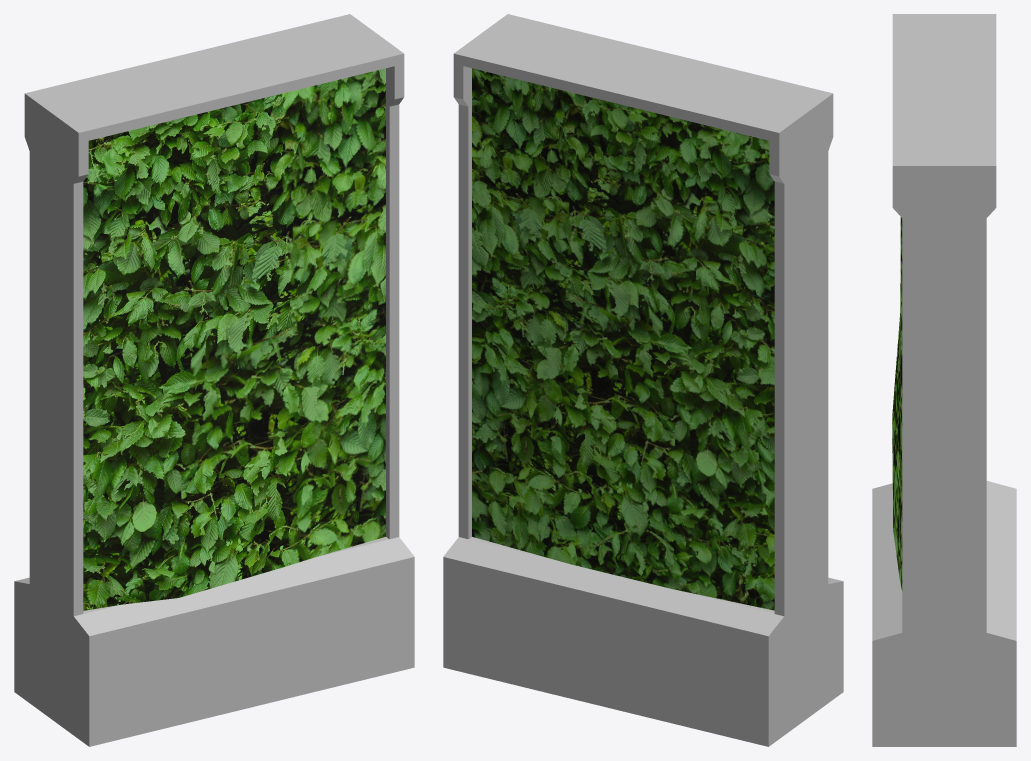
The model's file is PlantedCubboard.fbx.
3 views of the same model, side by side, from view 1: azimuth 30°, elevation 25°; view 2: azimuth 150°, elevation 25°; view 3: azimuth 270°, elevation 25° (orthographic). The views are drawn at different scales.
Parts seen in each view (by area): view 1: WallOfLeaves; view 2: WallOfLeaves; view 3: WallOfLeaves.
Boxes of the visible parts, bbox=[...] form: WallOfLeaves: bbox=[14, 14, 414, 746]; WallOfLeaves: bbox=[443, 14, 843, 746]; WallOfLeaves: bbox=[872, 14, 1016, 746].
Bounding box in the file's own units: 2000 × 3560 × 800.
